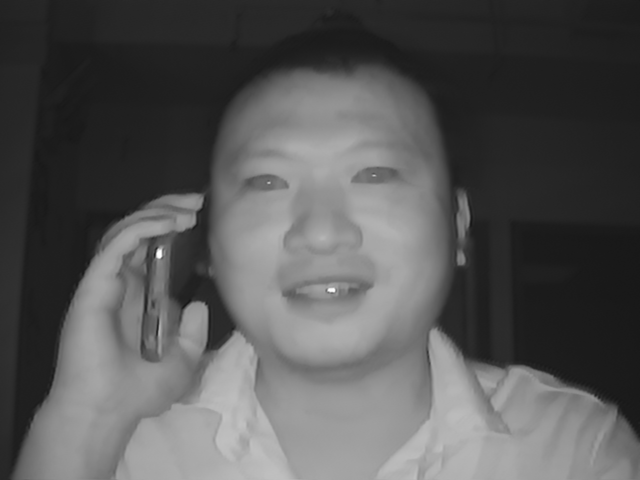hand: (52, 183, 220, 416)
